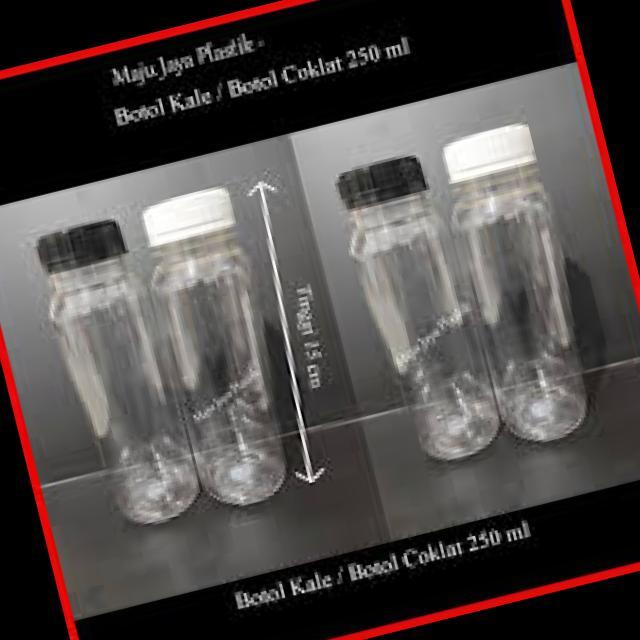good: (315, 134, 512, 480), (24, 188, 202, 546), (434, 114, 614, 461), (153, 180, 291, 518)
